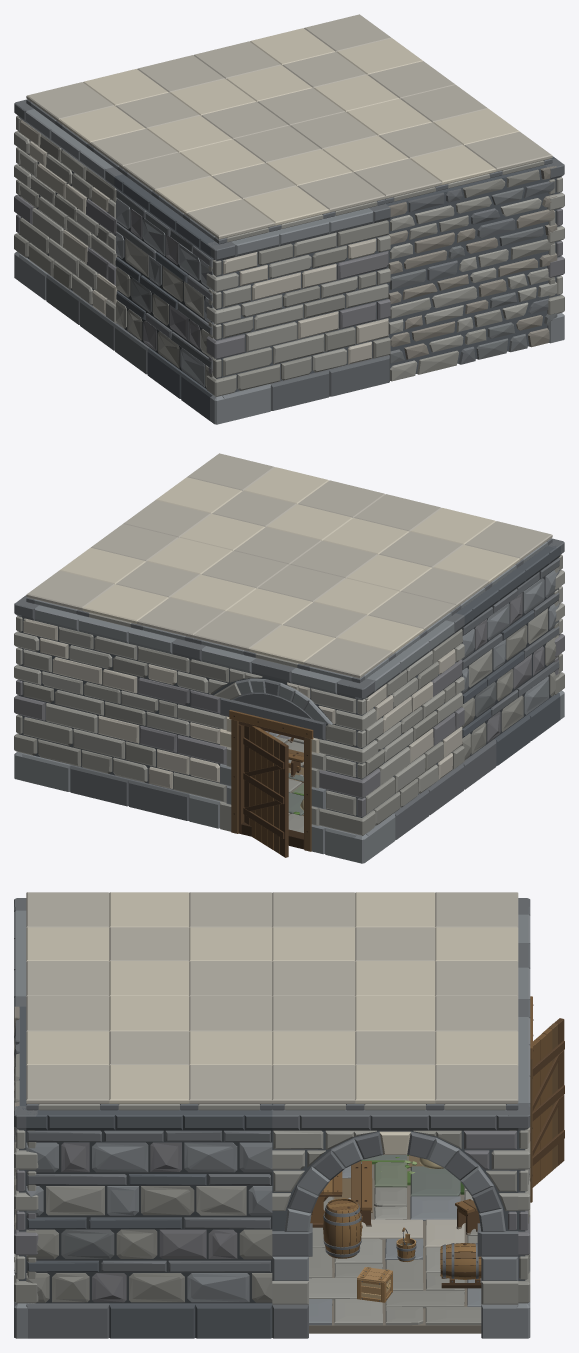
File: SM_LPD_Room_guardpost.fbx
3 views of the same model, one above another, from view 1: azimuth 30°, elevation 25°; view 2: azimuth 150°, elevation 25°; view 3: azimuth 270°, elevation 25° (orthographic). The views are drawn at different scales.
Parts seen in each view (by area): view 1: SM_LPD_Struct_WallAshlar_01.003, SM_LPD_Struct_WallRubble_01.001, SM_LPD_Struct_WallAshlar_01.002, SM_LPD_Struct_CeilFlat_01.001, SM_LPD_Struct_WallCoursed_01.001, SM_LPD_Struct_CeilFlat_01.002, SM_LPD_Struct_CeilFlat_01.003, SM_LPD_Struct_CeilFlat_01.004, SM_LPD_Struct_CornerPostPlain_01.001, SM_LPD_Struct_CornerPostPlain_01.003, SM_LPD_Struct_CornerPostPlain_01.002; view 2: SM_LPD_Struct_WallAshlar_01.001, SM_LPD_Struct_WallDoorway_01.001, SM_LPD_Struct_CeilFlat_01.003, SM_LPD_Struct_WallAshlar_01.002, SM_LPD_Struct_WallCoursed_01.001, SM_LPD_Struct_CeilFlat_01.004, SM_LPD_Struct_CeilFlat_01.001, SM_LPD_Struct_CeilFlat_01.002, SM_LPD_Door_DoorStrapped_01.001, SM_LPD_Door_DoorFrameTimber_01.001, SM_LPD_Struct_CornerPostPlain_01.002, SM_LPD_Struct_CornerPostPlain_01.004 (+2 smaller); view 3: SM_LPD_Struct_WallCoursed_01.002, SM_LPD_Struct_CeilFlat_01.002, SM_LPD_Struct_CeilFlat_01.004, SM_LPD_Struct_WallArch_01.001, SM_LPD_Struct_CeilFlat_01.001, SM_LPD_Struct_CeilFlat_01.003, SM_LPD_Floor_PavingFlagstone_01.002, SM_LPD_Floor_PavingFlagstoneWorn_01.001, SM_LPD_Door_DoorStrapped_01.001, SM_LPD_Struct_CornerPostPlain_01.003, SM_LPD_Struct_CornerPostPlain_01.004, SM_LPD_Crate_BarrelUpright_01.001 (+10 smaller).
Part boxes in pixels (x1,y1,x2,y2): SM_LPD_Struct_WallAshlar_01.003: [217, 204, 390, 422]; SM_LPD_Struct_WallRubble_01.001: [385, 163, 557, 381]; SM_LPD_Struct_WallAshlar_01.002: [18, 105, 122, 350]; SM_LPD_Struct_CeilFlat_01.001: [122, 125, 385, 244]; SM_LPD_Struct_WallCoursed_01.001: [114, 174, 223, 420]; SM_LPD_Struct_CeilFlat_01.002: [290, 85, 552, 203]; SM_LPD_Struct_CeilFlat_01.003: [26, 55, 288, 173]; SM_LPD_Struct_CeilFlat_01.004: [193, 14, 455, 125]; SM_LPD_Struct_CornerPostPlain_01.001: [206, 241, 229, 424]; SM_LPD_Struct_CornerPostPlain_01.003: [545, 158, 564, 343]; SM_LPD_Struct_CornerPostPlain_01.002: [14, 99, 27, 280]; SM_LPD_Struct_WallAshlar_01.001: [21, 604, 193, 820]; SM_LPD_Struct_WallDoorway_01.001: [188, 643, 361, 861]; SM_LPD_Struct_CeilFlat_01.003: [193, 564, 456, 683]; SM_LPD_Struct_WallAshlar_01.002: [353, 613, 464, 859]; SM_LPD_Struct_WallCoursed_01.001: [456, 543, 560, 789]; SM_LPD_Struct_CeilFlat_01.004: [26, 524, 288, 642]; SM_LPD_Struct_CeilFlat_01.001: [290, 494, 552, 612]; SM_LPD_Struct_CeilFlat_01.002: [123, 453, 385, 564]; SM_LPD_Door_DoorStrapped_01.001: [243, 726, 288, 857]; SM_LPD_Door_DoorFrameTimber_01.001: [229, 710, 313, 851]; SM_LPD_Struct_CornerPostPlain_01.002: [349, 680, 371, 863]; SM_LPD_Struct_CornerPostPlain_01.004: [14, 597, 33, 780]; SM_LPD_Struct_WallCoursed_01.002: [26, 1109, 272, 1338]; SM_LPD_Struct_CeilFlat_01.002: [26, 996, 272, 1110]; SM_LPD_Struct_CeilFlat_01.004: [272, 996, 518, 1110]; SM_LPD_Struct_WallArch_01.001: [272, 1109, 518, 1338]; SM_LPD_Struct_CeilFlat_01.001: [26, 892, 272, 996]; SM_LPD_Struct_CeilFlat_01.003: [272, 892, 518, 996]; SM_LPD_Floor_PavingFlagstone_01.002: [309, 1219, 481, 1333]; SM_LPD_Floor_PavingFlagstoneWorn_01.001: [323, 1155, 473, 1221]; SM_LPD_Door_DoorStrapped_01.001: [532, 1018, 564, 1187]; SM_LPD_Struct_CornerPostPlain_01.003: [14, 1106, 38, 1338]; SM_LPD_Struct_CornerPostPlain_01.004: [507, 1106, 530, 1338]; SM_LPD_Crate_BarrelUpright_01.001: [323, 1198, 362, 1258].
Size of the model in its own units: 8.4 by 4.2 by 8.96.
